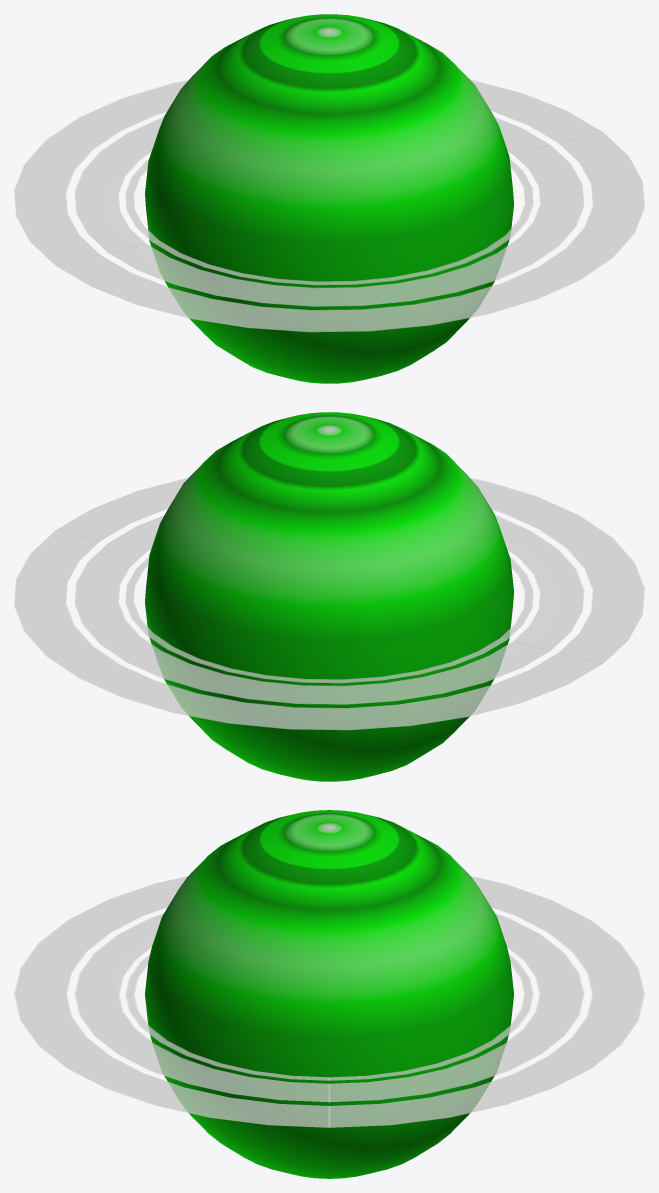
The model's file is Planet.glb.
The picture shows the model from 3 angles, top to bottom: view 1: azimuth 30°, elevation 25°; view 2: azimuth 150°, elevation 25°; view 3: azimuth 270°, elevation 25°; orthographic projection.
Parts seen in each view (by area): view 1: Planet, Rings1, Rings2; view 2: Planet, Rings2, Rings1; view 3: Planet, Rings1, Rings2.
Part boxes in pixels (x1=…): Planet: x1=14, y1=14, x2=644, y2=383; Rings1: x1=55, y1=132, x2=643, y2=331; Rings2: x1=15, y1=80, x2=602, y2=264; Planet: x1=14, y1=412, x2=644, y2=781; Rings2: x1=14, y1=530, x2=601, y2=729; Rings1: x1=56, y1=478, x2=644, y2=663; Planet: x1=14, y1=810, x2=644, y2=1178; Rings1: x1=15, y1=876, x2=330, y2=1127; Rings2: x1=328, y1=876, x2=643, y2=1127.
Bounding box in the file's own units: 2.56 × 1.5 × 2.56.
